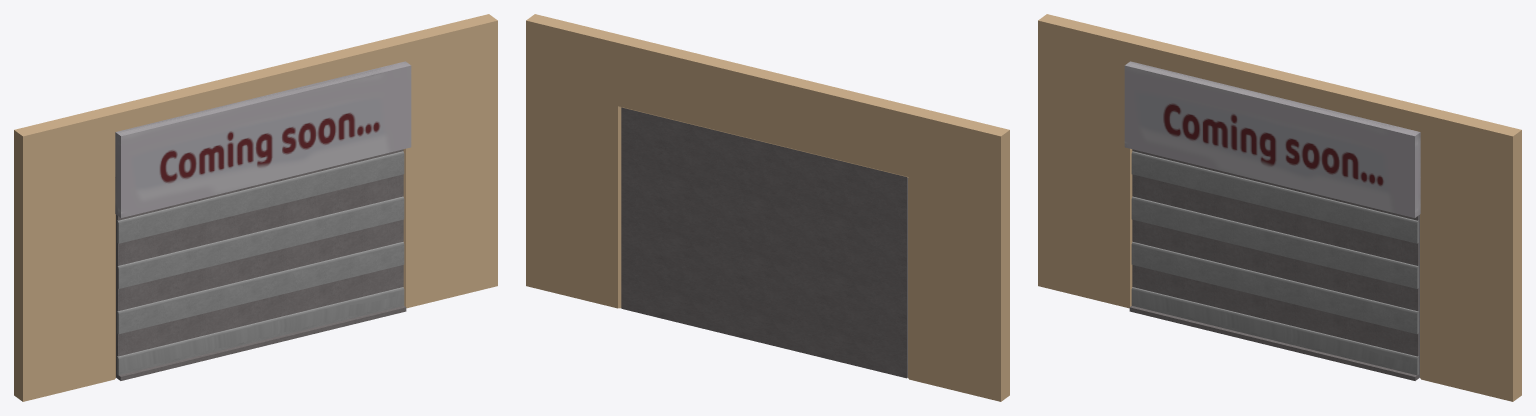
The model's file is closed shutter stall.fbx.
The picture shows the model from 3 angles, left to right: view 1: azimuth 30°, elevation 25°; view 2: azimuth 150°, elevation 25°; view 3: azimuth 330°, elevation 25°; orthographic projection.
Parts seen in each view (by area): view 1: stall_entrance, shutter_door, signage; view 2: stall_entrance, shutter_door; view 3: stall_entrance, shutter_door, signage.
Part boxes in pixels (left/top/right/bottom): stall_entrance: left=14, top=14, right=497, bottom=401; shutter_door: left=116, top=149, right=406, bottom=380; signage: left=115, top=61, right=411, bottom=217; stall_entrance: left=526, top=14, right=1009, bottom=401; shutter_door: left=621, top=107, right=907, bottom=378; stall_entrance: left=1038, top=14, right=1521, bottom=401; shutter_door: left=1129, top=149, right=1419, bottom=380; signage: left=1124, top=61, right=1420, bottom=217.
Size of the model in its own units: 400 by 214 by 21.39.
Materials: 5 (5 with a texture image).
